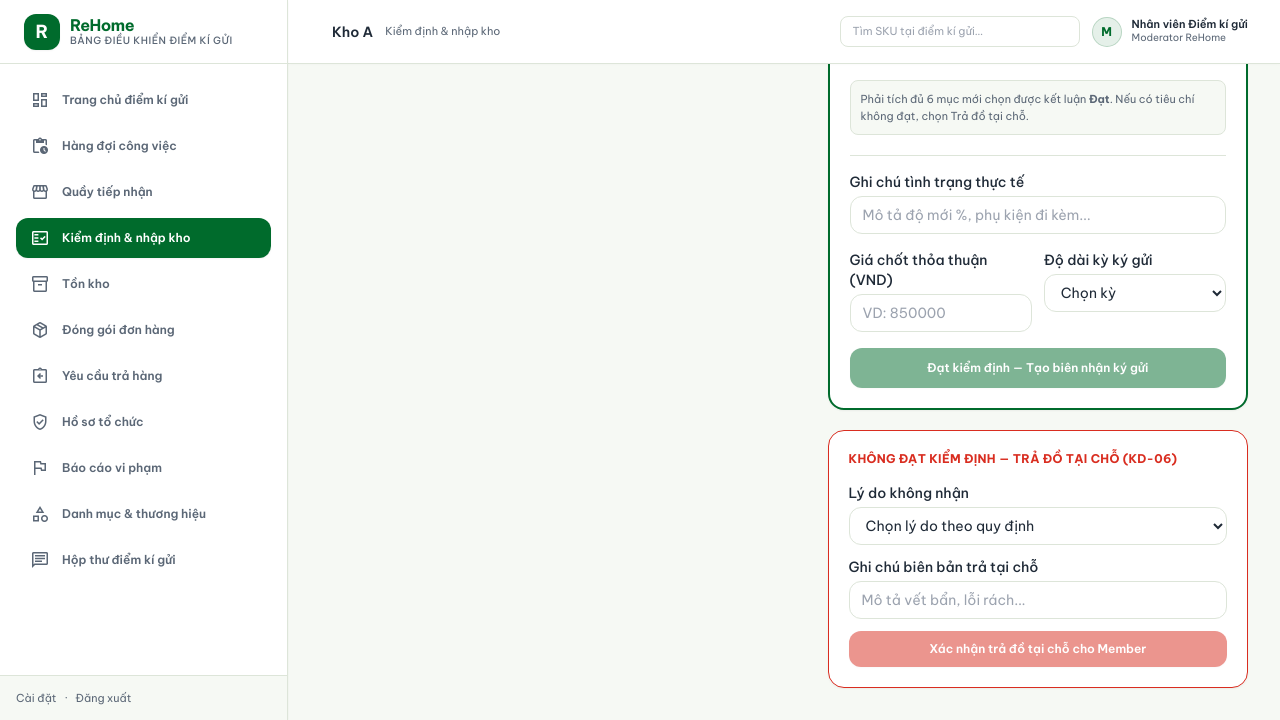
Test case: ConsignmentDetailPage component behaviors › returns item onsite when inspection fails
(page scrolled)
Select "Không đạt tiêu chí chất lượng kiểm định" in the dropdown labelled "Lý do không nhận" at (1038, 526), box [848,507,1227,545]
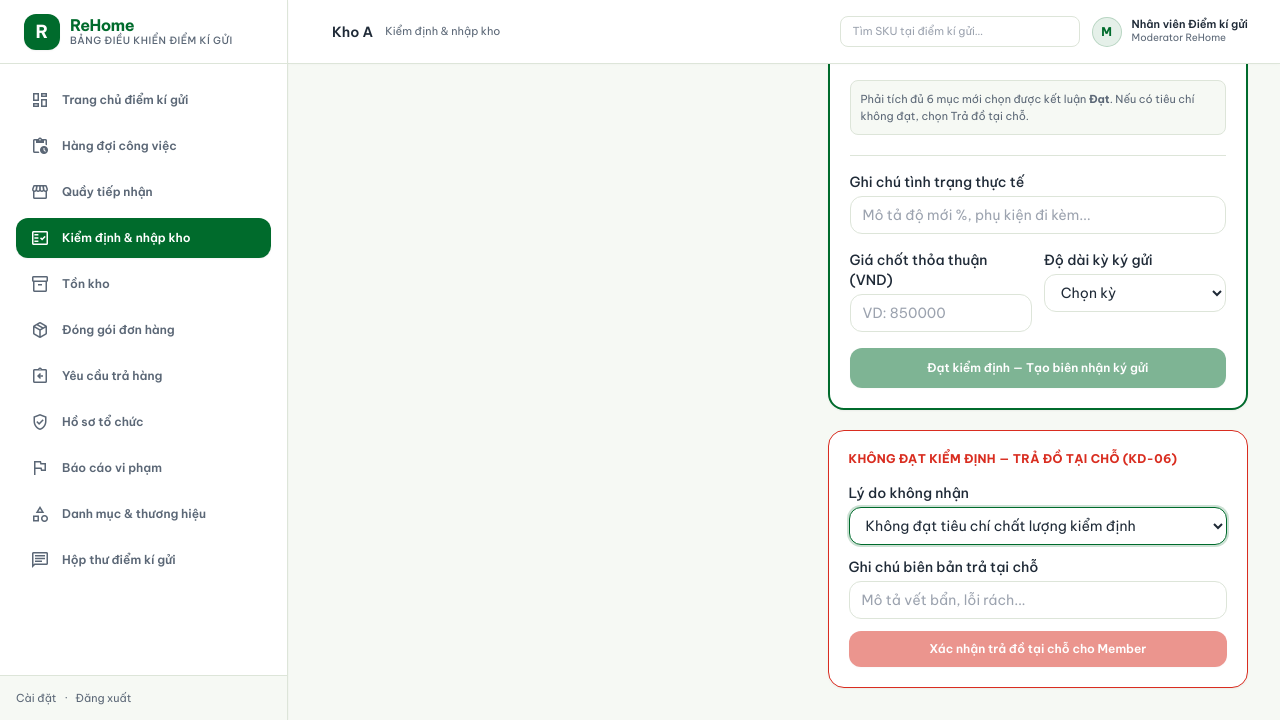
Type "Vết rách lớn ở tay áo" into the field with placeholder "Mô tả vết bẩn, lỗi rách...".
click(1038, 600); type("Vết rách lớn ở tay áo")  # box [848,581,1227,619]
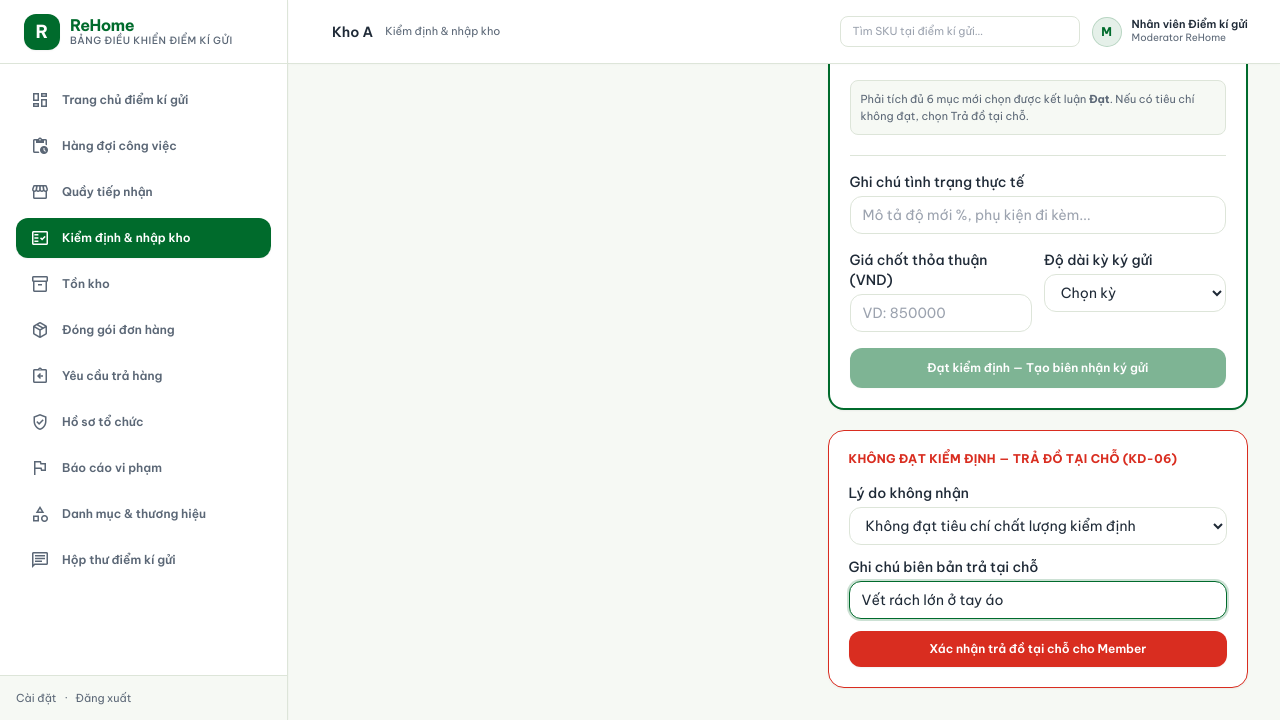
Click the button "Xác nhận trả đồ tại chỗ cho Member".
click(1038, 649)  # box [848,631,1227,667]
(page scrolled)
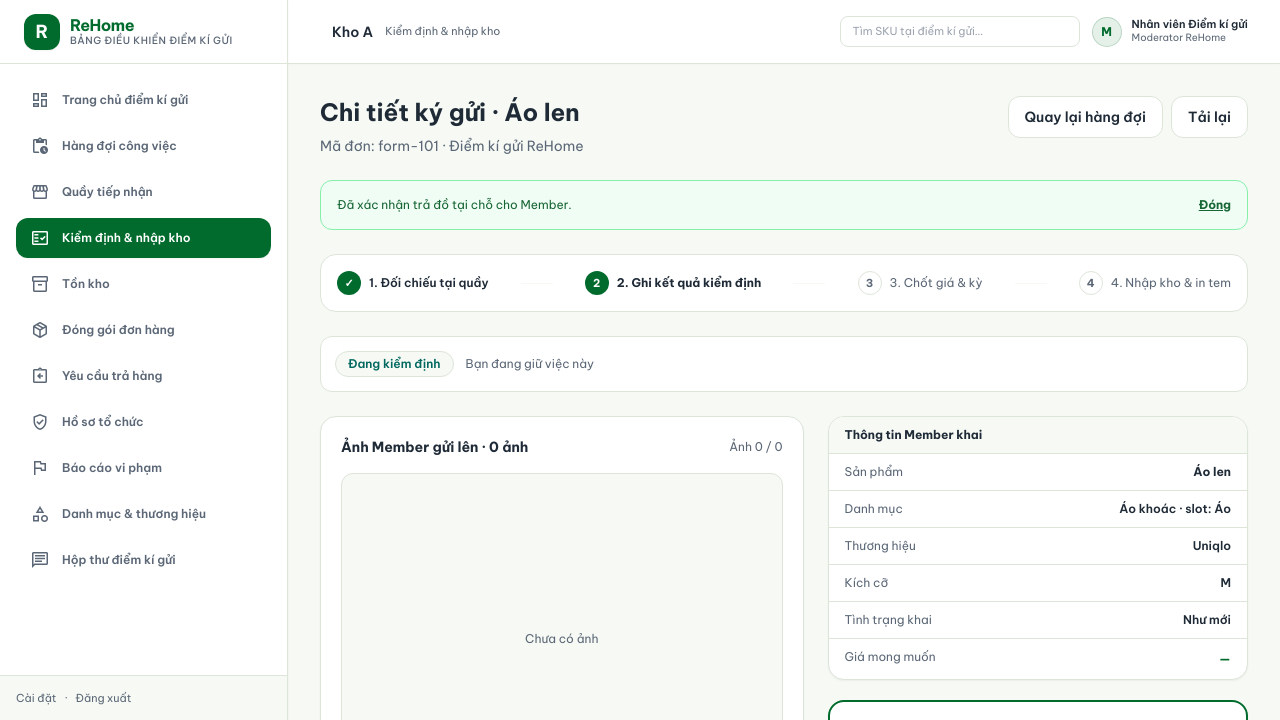
Now the text "Đã xác nhận trả đồ tại chỗ cho Member." is shown, box [337,197,572,213]
